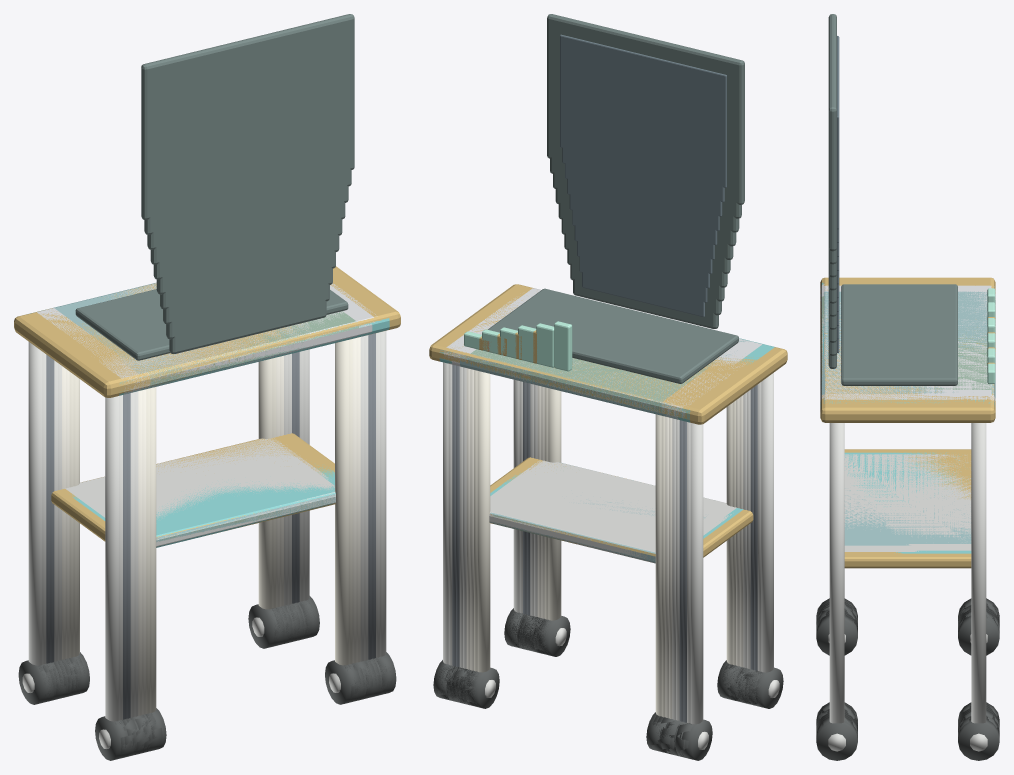
The model's file is Gear20.fbx.
The picture shows the model from 3 angles, left to right: view 1: azimuth 30°, elevation 25°; view 2: azimuth 150°, elevation 25°; view 3: azimuth 270°, elevation 25°; orthographic projection. The views are drawn at different scales.
Parts seen in each view (by area): view 1: Gear20_V10_Ink, Gear20_V1_Ink, Gear20_V10_Gold, Gear20_V10_Chrome, Gear20_V1_Ivory, Gear20_V3_Ink, Gear20_V5_Ink, Gear20_V5_Chrome, Gear20_V2_Ink, Gear20_V4_Chrome, Gear20_V8_Aqua, Gear20_V7_Ink (+27 smaller); view 2: Gear20_V10_Glass, Gear20_V10_Chrome, Gear20_V10_Gold, Gear20_V1_Ivory, Gear20_V10_Ink, Gear20_V6_Glass, Gear20_V6_Chrome, Gear20_V1_Glass, Gear20_V4_Chrome, Gear20_V5_Chrome, Gear20_V7_Ink, Gear20_V7_Chrome (+41 smaller); view 3: Gear20_V10_Chrome, Gear20_V10_Gold, Gear20_V4_Chrome, Gear20_V10_Ink, Gear20_V3_Blue, Gear20_V9_Gold, Gear20_V8_Aqua, Gear20_V10_Tyre, Gear20_V1_Ink, Gear20_V6_Platinum, Gear20_V4_Ink, Gear20_V6_Chrome (+18 smaller).
Part boxes in pixels (x1,y1,x2,y2): Gear20_V10_Ink: [75, 14, 354, 360]; Gear20_V1_Ink: [106, 217, 326, 353]; Gear20_V10_Gold: [14, 266, 400, 541]; Gear20_V10_Chrome: [22, 331, 386, 748]; Gear20_V1_Ivory: [73, 340, 348, 712]; Gear20_V3_Ink: [161, 167, 332, 352]; Gear20_V5_Ink: [155, 124, 339, 350]; Gear20_V5_Chrome: [58, 336, 364, 716]; Gear20_V2_Ink: [165, 187, 329, 354]; Gear20_V4_Chrome: [156, 438, 335, 537]; Gear20_V8_Aqua: [27, 296, 389, 547]; Gear20_V7_Ink: [88, 83, 345, 357]; Gear20_V10_Glass: [560, 34, 726, 187]; Gear20_V10_Chrome: [443, 362, 779, 749]; Gear20_V10_Gold: [429, 284, 787, 558]; Gear20_V1_Ivory: [477, 371, 732, 716]; Gear20_V10_Ink: [488, 14, 744, 383]; Gear20_V6_Glass: [569, 118, 717, 245]; Gear20_V6_Chrome: [459, 366, 750, 720]; Gear20_V1_Glass: [582, 217, 704, 316]; Gear20_V4_Chrome: [489, 464, 712, 552]; Gear20_V5_Chrome: [463, 367, 746, 719]; Gear20_V7_Ink: [497, 119, 736, 376]; Gear20_V7_Chrome: [489, 460, 733, 551]; Gear20_V10_Chrome: [828, 423, 987, 751]; Gear20_V10_Gold: [820, 277, 995, 568]; Gear20_V4_Chrome: [844, 459, 971, 547]; Gear20_V10_Ink: [828, 14, 957, 385]; Gear20_V3_Blue: [821, 291, 995, 545]; Gear20_V9_Gold: [823, 279, 994, 555]; Gear20_V8_Aqua: [820, 282, 994, 553]; Gear20_V10_Tyre: [816, 598, 999, 760]; Gear20_V1_Ink: [828, 297, 919, 368]; Gear20_V6_Platinum: [823, 285, 994, 401]; Gear20_V4_Ink: [828, 293, 957, 371]; Gear20_V6_Chrome: [844, 456, 971, 550].
Bounding box in the file's own units: 76.16 × 169 × 44.
